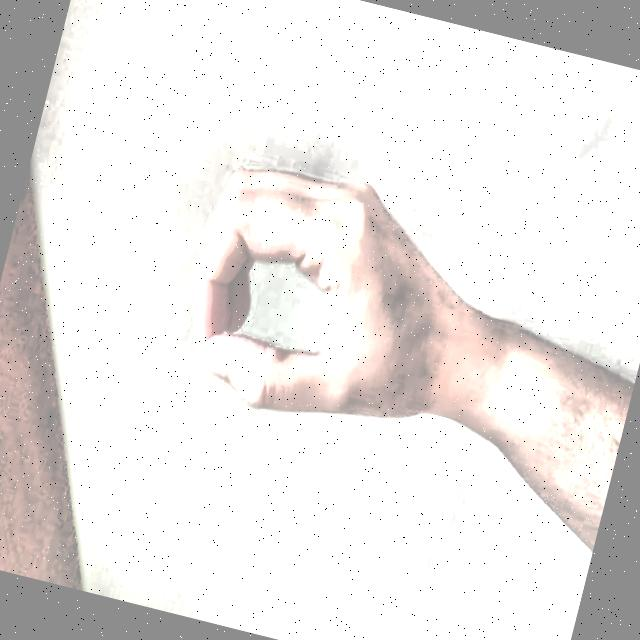O: (136, 127, 508, 488)
